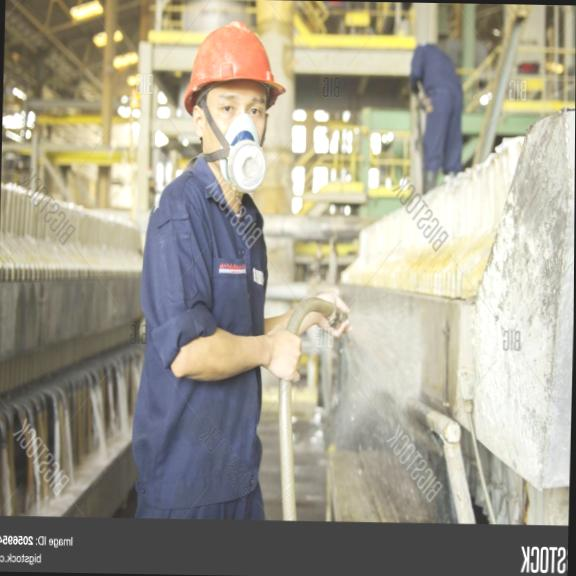no_safety_vest: (139, 181, 265, 480)
